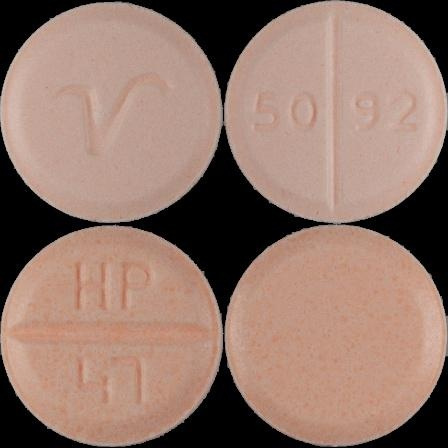52959-127: (0, 0, 224, 224)
